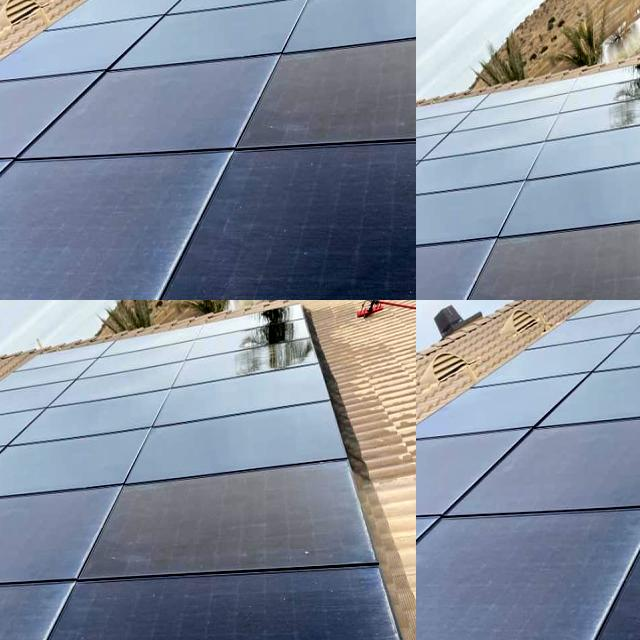dust: (168, 54, 370, 204), (417, 535, 589, 640), (310, 161, 416, 300), (221, 0, 383, 81), (16, 0, 143, 88), (529, 420, 640, 515)
hotspot: (0, 333, 40, 451)
